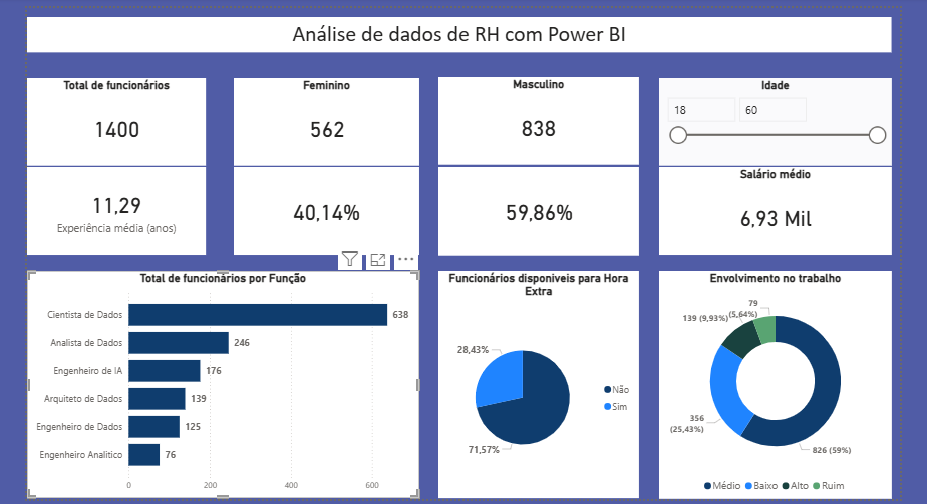

What the dashboard file says about the page in this screenshot:
{"tool":"powerbi","page":{"name":"Página 1","canvas":[1280,720],"ordinal":0},"visuals":[{"type":"textbox","box":[0,13.6,1266.7,51.5],"z":0},{"type":"card","title":"Salário médio","fields":{"Values":["medidas.Salário médio"]},"box":[925.9,233.5,341.3,128.2],"z":1000},{"type":"card","title":"Total de funcionários","fields":{"Values":["medidas.Total_func"]},"box":[0,102.3,262.3,129.1],"z":2000},{"type":"card","title":"Feminino","fields":{"Values":["medidas.Total_feminino"]},"box":[303.2,102.3,272.3,129.1],"z":3000},{"type":"card","title":"Masculino","fields":{"Values":["medidas.Total_masculino"]},"box":[603.6,102.1,293.6,129.3],"z":4000},{"type":"card","fields":{"Values":["medidas.% Feminino"]},"box":[303.4,233.3,272.2,128.2],"z":5000},{"type":"card","fields":{"Values":["medidas.% Masculino"]},"box":[603.6,233.6,293.6,128.6],"z":6000},{"type":"card","fields":{"Values":["Avg(DatasetRH.Anos_Experiencia)"]},"box":[0,233.5,262.1,128.2],"z":7000},{"type":"barChart","title":"Total de funcionários por Função","fields":{"Category":["DatasetRH.Funcao"],"Y":["medidas.Total_func"]},"box":[0,385.9,574.6,332.6],"z":8000},{"type":"pieChart","title":"Funcionários disponiveis para Hora Extra","fields":{"Category":["DatasetRH.Disponivel_Hora_Extra"],"Y":["medidas.Total_func"]},"box":[603.4,385.9,293.8,334.1],"z":9000},{"type":"donutChart","title":"Envolvimento no trabalho","fields":{"Y":["medidas.Total_func"],"Category":["DatasetRH.Envolvimento_trabalho"]},"box":[926.5,385.3,341.2,335.3],"z":10000},{"type":"slicer","title":"Idade","fields":{"Values":["DatasetRH.Idade"]},"box":[925.9,102.3,341.4,129.1],"z":11000}]}

Visuals, with their boxes in screenshot pixels (x1, y1, x2, y2):
textbox: rect(17, 14, 892, 50)
"Salário médio" card: rect(657, 166, 893, 255)
"Total de funcionários" card: rect(17, 76, 198, 165)
"Feminino" card: rect(226, 76, 415, 165)
"Masculino" card: rect(434, 75, 637, 165)
card - medidas.% Feminino: rect(227, 166, 415, 255)
card - medidas.% Masculino: rect(434, 166, 637, 255)
card - Avg(DatasetRH.Anos_Experiencia): rect(17, 166, 198, 255)
"Total de funcionários por Função" barChart: rect(17, 272, 414, 501)
"Funcionários disponiveis para Hora Extra" pieChart: rect(434, 272, 637, 502)
"Envolvimento no trabalho" donutChart: rect(657, 271, 893, 503)
"Idade" slicer: rect(657, 76, 893, 165)
